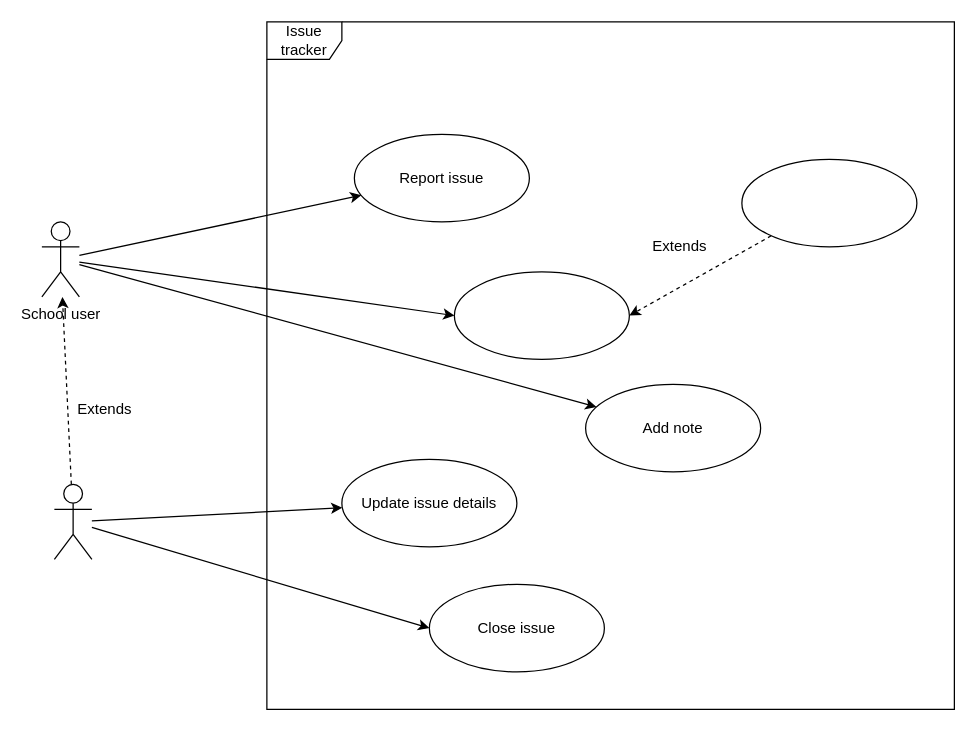
The diagram is 976 pixels wide and 731 high, and some of its shapes have lost their labels. The centre of each missing label's shape, as x and y in pixels:
"Sysadmin" goes at point (72, 521).
"View all issues" goes at point (541, 315).
"View all open issues" goes at point (829, 202).
